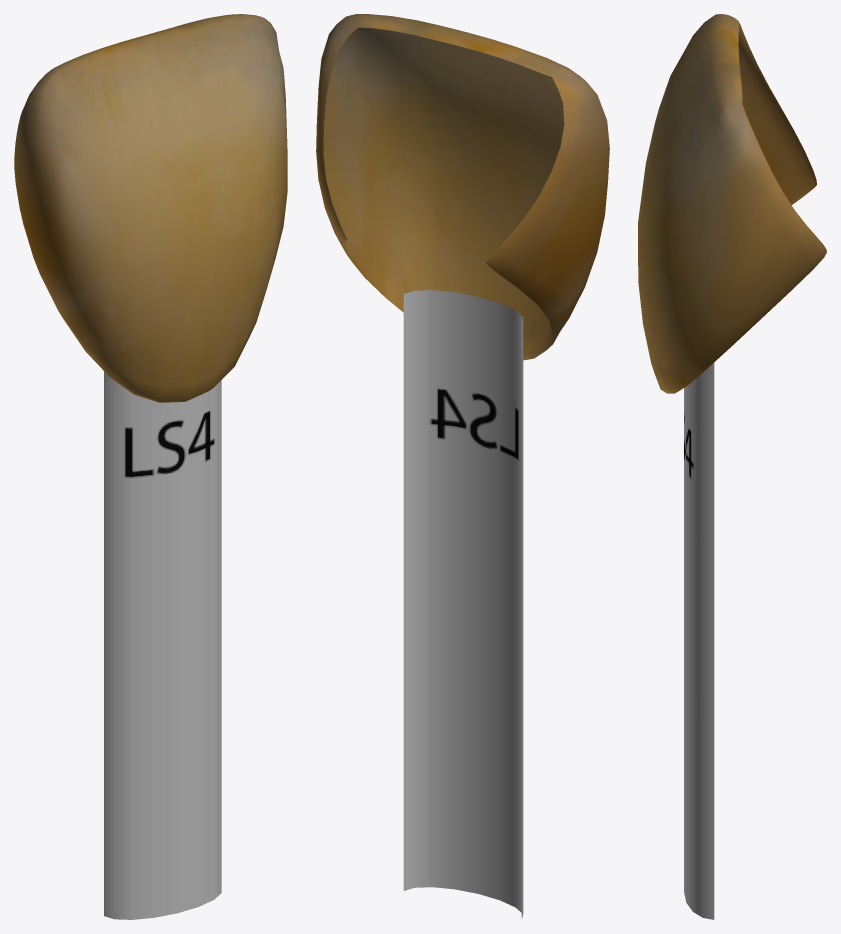
3 renders of one model, left to right at view 1: azimuth 30°, elevation 25°; view 2: azimuth 150°, elevation 25°; view 3: azimuth 270°, elevation 25°, orthographic. The views are drawn at different scales.
Visible parts, largest first — view 1: Tab; view 2: Tab; view 3: Tab.
Part boxes in pixels (left/top/right/bottom): Tab: left=14, top=14, right=287, bottom=919; Tab: left=316, top=14, right=609, bottom=919; Tab: left=638, top=14, right=826, bottom=919.
Bounding box in the file's own units: 0.00866 × 0.0274 × 0.00556.
1 material, 1 textured.
